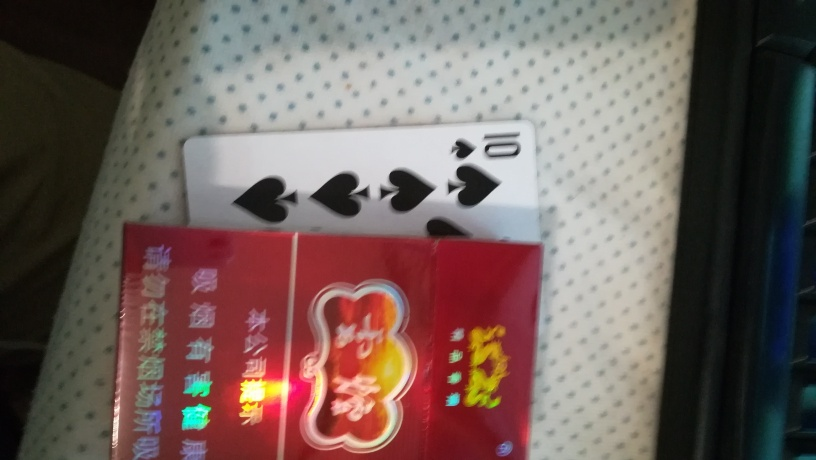ht 10: (173, 118, 545, 242)
